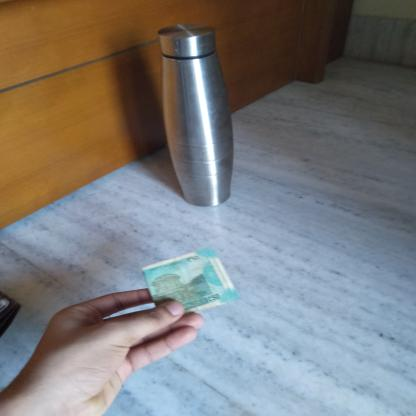New50Back: (142, 251, 220, 312)
